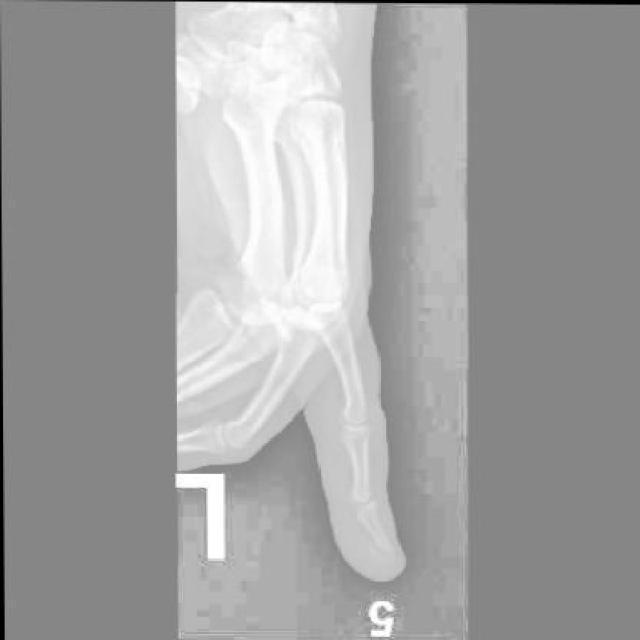Fracture: (368, 537, 404, 570)
